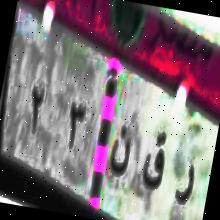2: (20, 80, 49, 141)
3: (60, 92, 95, 163)
noon: (103, 119, 141, 185)
qaaf: (136, 122, 176, 200)
raa: (170, 146, 202, 220)
